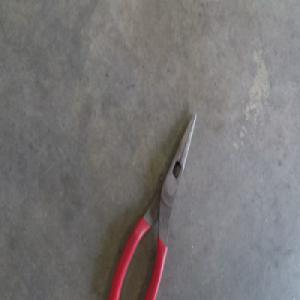Pliers: (107, 113, 197, 298)
